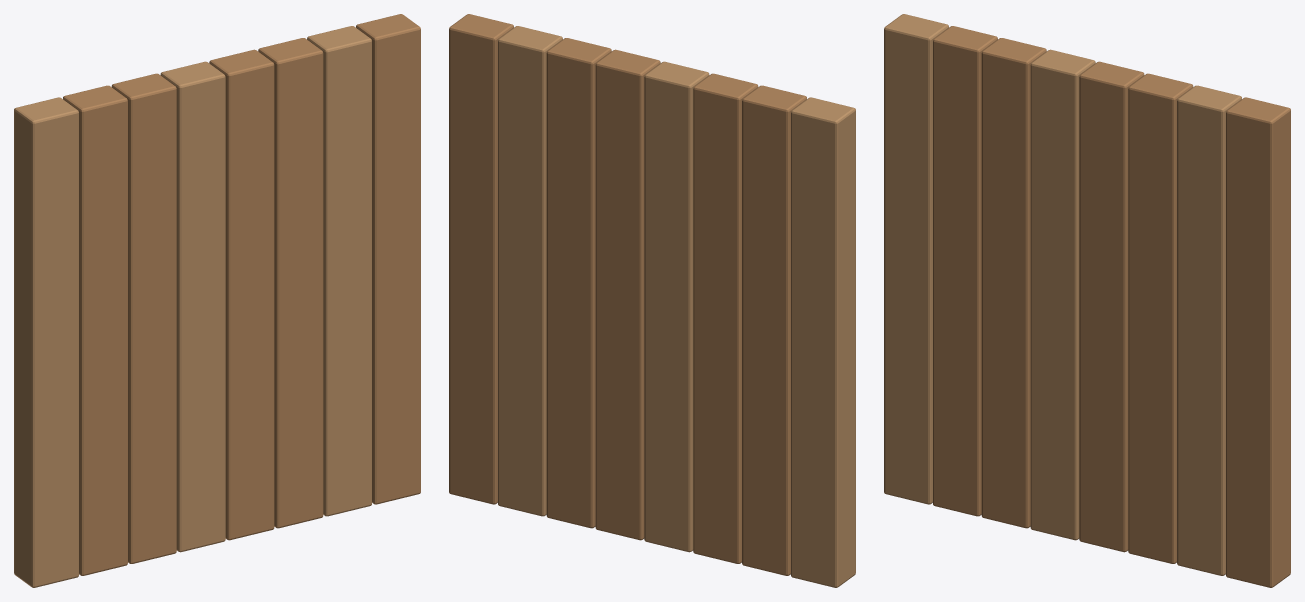
Rendered from wall_timber_2m.glb.
The picture shows the model from 3 angles, left to right: view 1: azimuth 30°, elevation 25°; view 2: azimuth 150°, elevation 25°; view 3: azimuth 330°, elevation 25°; orthographic projection.
Visible parts, largest first — view 1: wall_timber_2m; view 2: wall_timber_2m; view 3: wall_timber_2m.
Boxes of the visible parts, box(x1,y1,x2,y2) form: wall_timber_2m: box(14, 14, 420, 587); wall_timber_2m: box(449, 14, 855, 587); wall_timber_2m: box(884, 14, 1290, 587).
Size of the model in its own units: 1.81 by 2.08 by 0.16.
